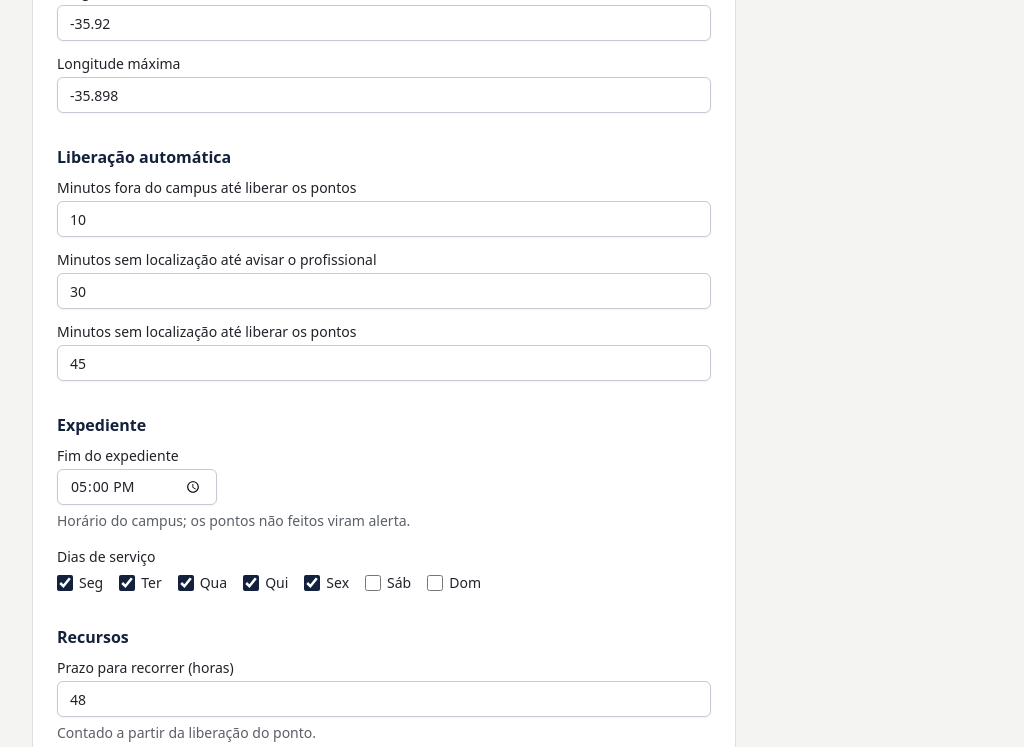
it: SettingsPage › blocks a silence release that does not come after the warning
(page scrolled)
Replace the text in the number field labelled "Minutos sem localização até liberar os pontos" with "20" at (384, 363), box [57,345,711,381]
(page scrolled)
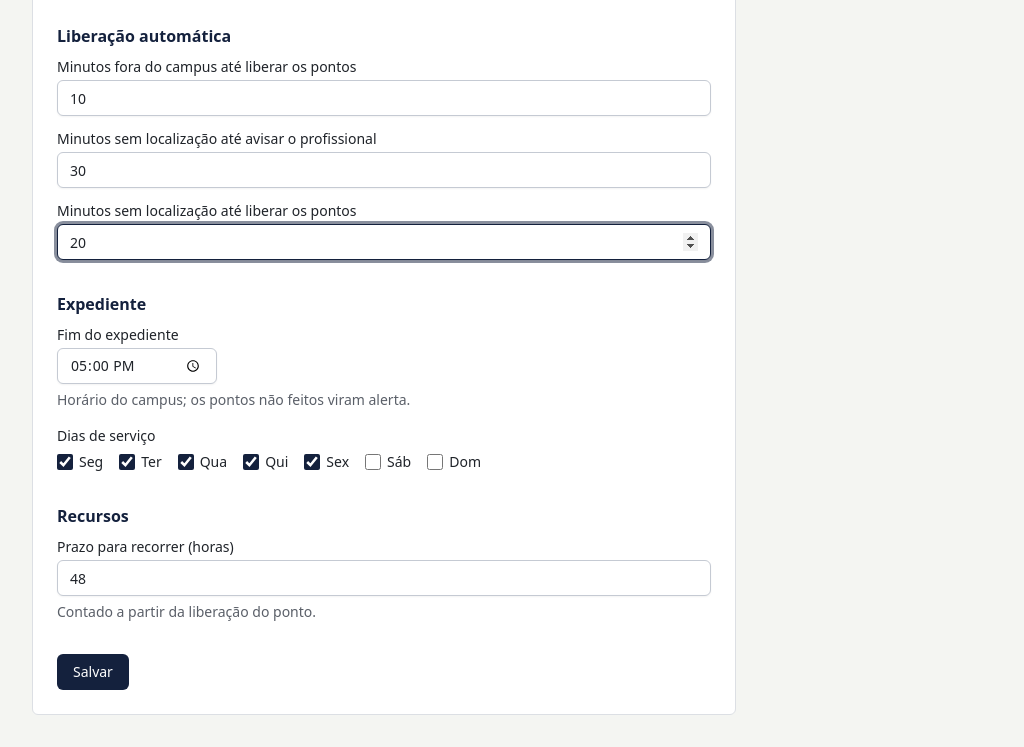
Click the button "Salvar" at (93, 672), box [57,654,129,690]
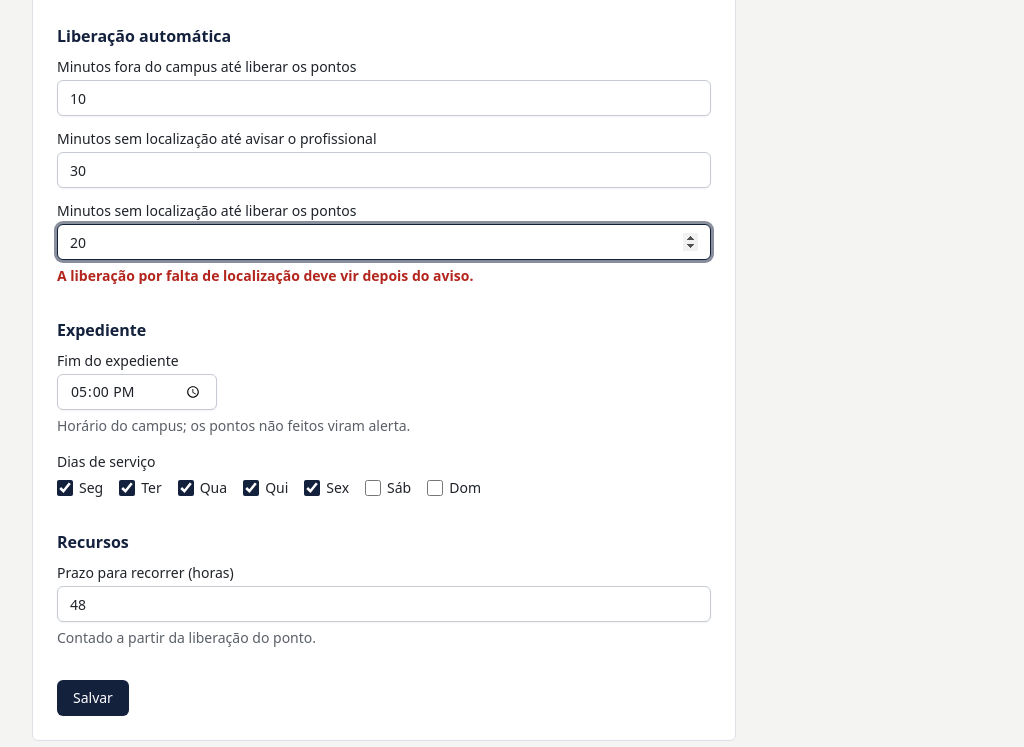
Check: the text "A liberação por falta de localização deve vir depois do aviso." is shown, box [57,266,473,285]
